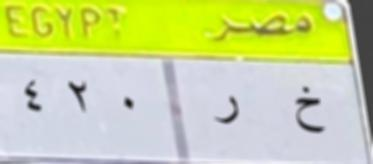0: (119, 94, 138, 118)
2: (66, 76, 92, 114)
4: (18, 77, 46, 118)
khaa: (296, 83, 329, 138)
raa: (212, 91, 241, 130)
